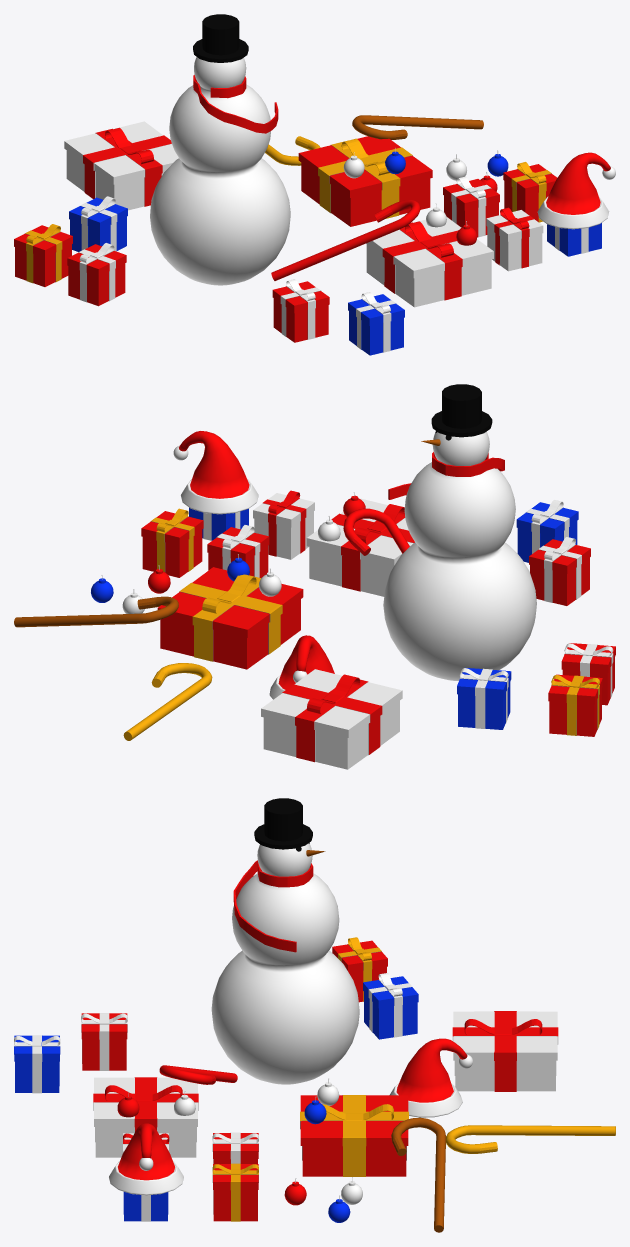
Rendered from Assorted_Items.FBX.
3 renders of one model, top to bottom at view 1: azimuth 30°, elevation 25°; view 2: azimuth 150°, elevation 25°; view 3: azimuth 270°, elevation 25°, orthographic. The views are drawn at different scales.
Visible parts, largest first — view 1: Sphere007, Box017, Box024, Box028, Cylinder002, Box026, Box029, Box025, Box030, Box001, Box027, Box015 (+5 smaller); view 2: Sphere007, Box028, Box024, Box017, Cylinder002, Box011, Box029, Box025, Box001, Box027, Box030, Box015 (+6 smaller); view 3: Sphere007, Box028, Box024, Box017, Cylinder005, Cylinder002, Box027, Box030, Box029, Box011, Cylinder003, Box025 (+4 smaller).
Part boxes in pixels (x1=…): Sphere007: x1=150, y1=14, x2=290, y2=285; Box017: x1=366, y1=217, x2=493, y2=307; Box024: x1=298, y1=136, x2=432, y2=226; Box028: x1=64, y1=121, x2=178, y2=210; Cylinder002: x1=537, y1=152, x2=615, y2=229; Box026: x1=67, y1=243, x2=126, y2=306; Box029: x1=272, y1=279, x2=329, y2=342; Box025: x1=14, y1=224, x2=72, y2=286; Box030: x1=348, y1=292, x2=404, y2=355; Box001: x1=486, y1=207, x2=543, y2=271; Box027: x1=69, y1=196, x2=127, y2=251; Box015: x1=443, y1=176, x2=499, y2=237; Sphere007: x1=383, y1=384, x2=536, y2=680; Box028: x1=261, y1=669, x2=402, y2=769; Box024: x1=157, y1=567, x2=303, y2=669; Box017: x1=306, y1=498, x2=414, y2=596; Cylinder002: x1=173, y1=431, x2=258, y2=514; Box011: x1=141, y1=508, x2=203, y2=577; Box029: x1=529, y1=537, x2=590, y2=605; Box025: x1=548, y1=674, x2=602, y2=736; Box001: x1=253, y1=490, x2=314, y2=559; Box027: x1=457, y1=667, x2=511, y2=729; Box030: x1=516, y1=500, x2=578, y2=562; Box015: x1=207, y1=525, x2=269, y2=577; Sphere007: x1=211, y1=798, x2=359, y2=1084; Box028: x1=452, y1=1011, x2=558, y2=1091; Box024: x1=300, y1=1095, x2=408, y2=1176; Box017: x1=93, y1=1077, x2=198, y2=1157; Cylinder005: x1=389, y1=1038, x2=472, y2=1117; Cylinder002: x1=109, y1=1123, x2=183, y2=1195; Box027: x1=363, y1=973, x2=418, y2=1039; Box030: x1=14, y1=1035, x2=60, y2=1093; Box029: x1=81, y1=1013, x2=127, y2=1070; Box011: x1=212, y1=1163, x2=258, y2=1221; Cylinder003: x1=446, y1=1125, x2=615, y2=1153; Box025: x1=332, y1=937, x2=387, y2=1002.
Size of the model in its own units: 679 by 335 by 673.
